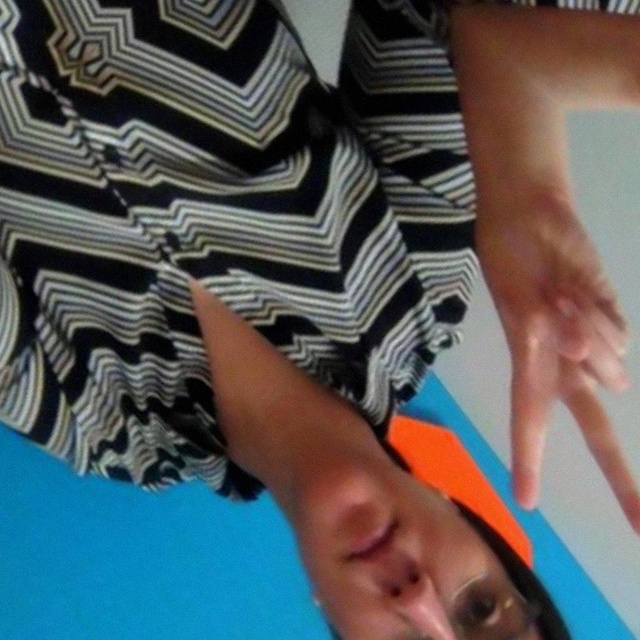Scissors: (638, 0, 640, 321)
